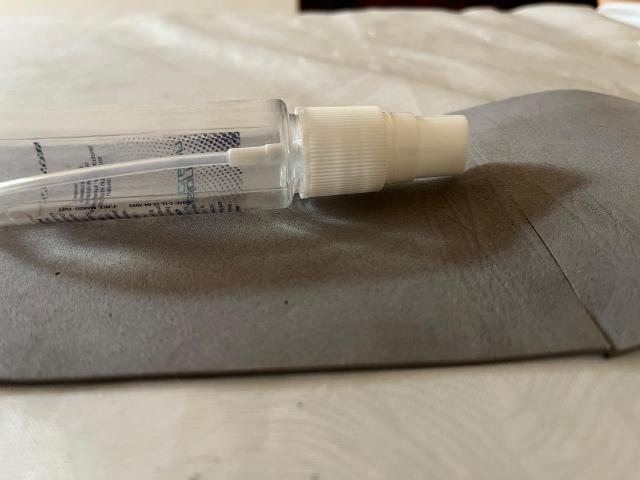PET: (0, 42, 568, 311)
